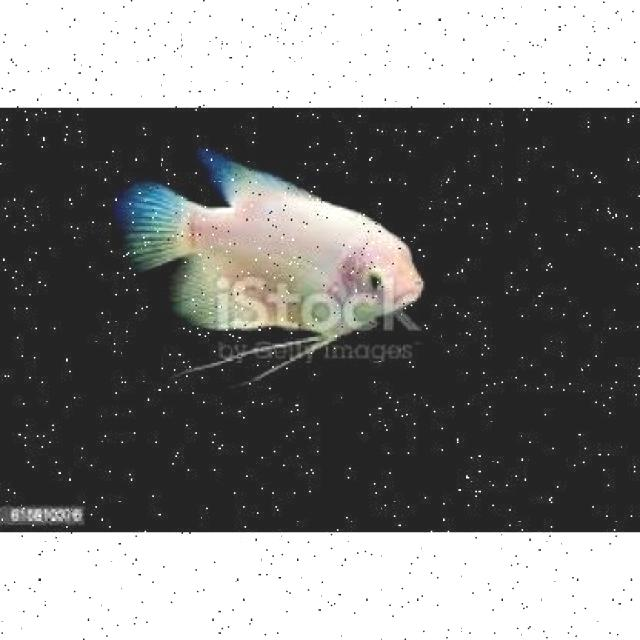gurame: (128, 153, 442, 367)
